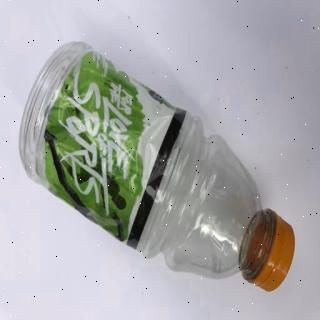Plastic-bottle: (18, 40, 298, 297)
